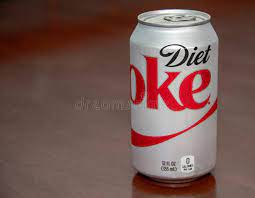can: (124, 5, 221, 187)
